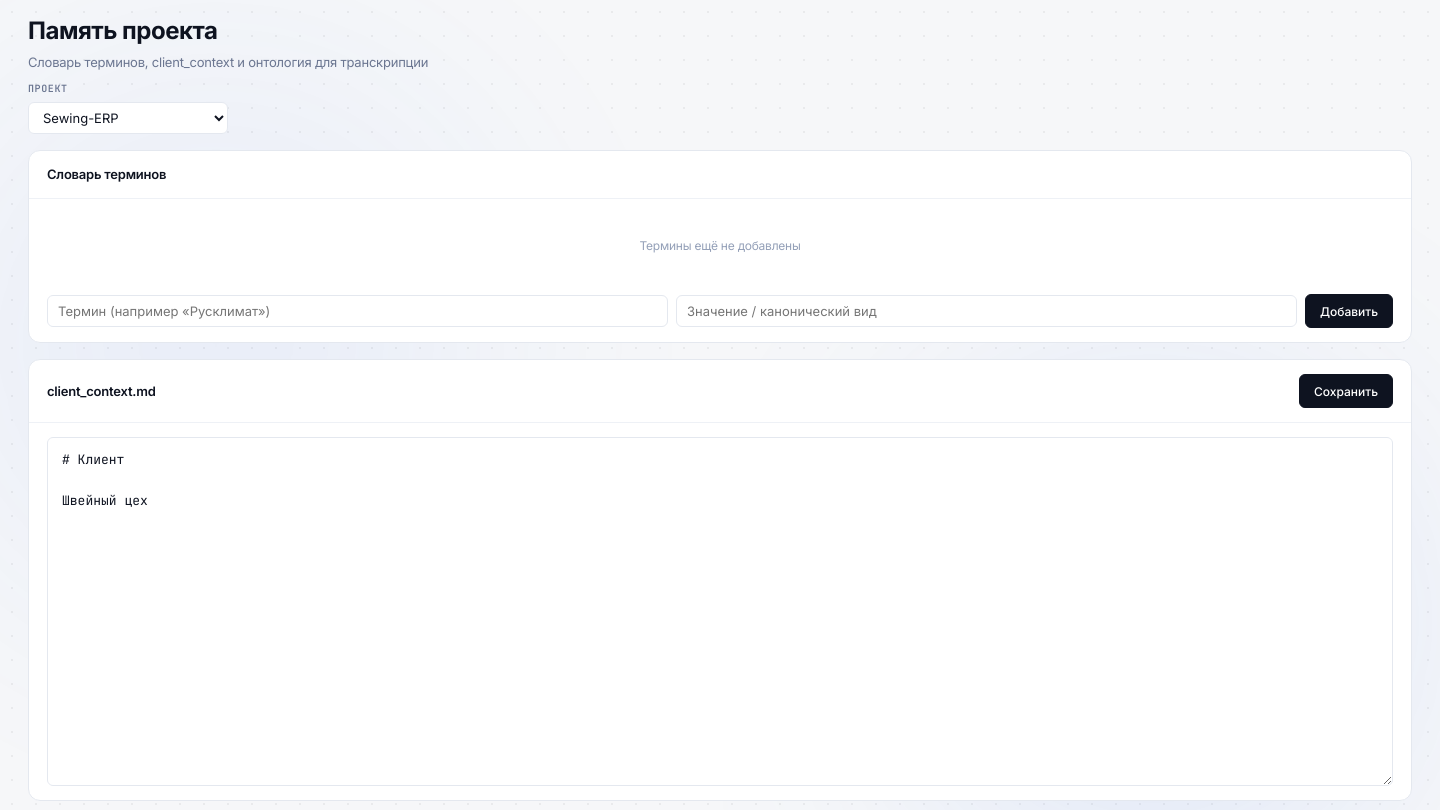
ProjectMemoryView — dictionary › shows the 409 backend detail inline (not a crash) when saving is rejected for a v2-ontology project
Expected: the text "Термины ещё не добавлены" is shown, [639,238,801,253]
Type "Тест" into the field named "Новый термин" at (358, 311), box [47,295,668,327]
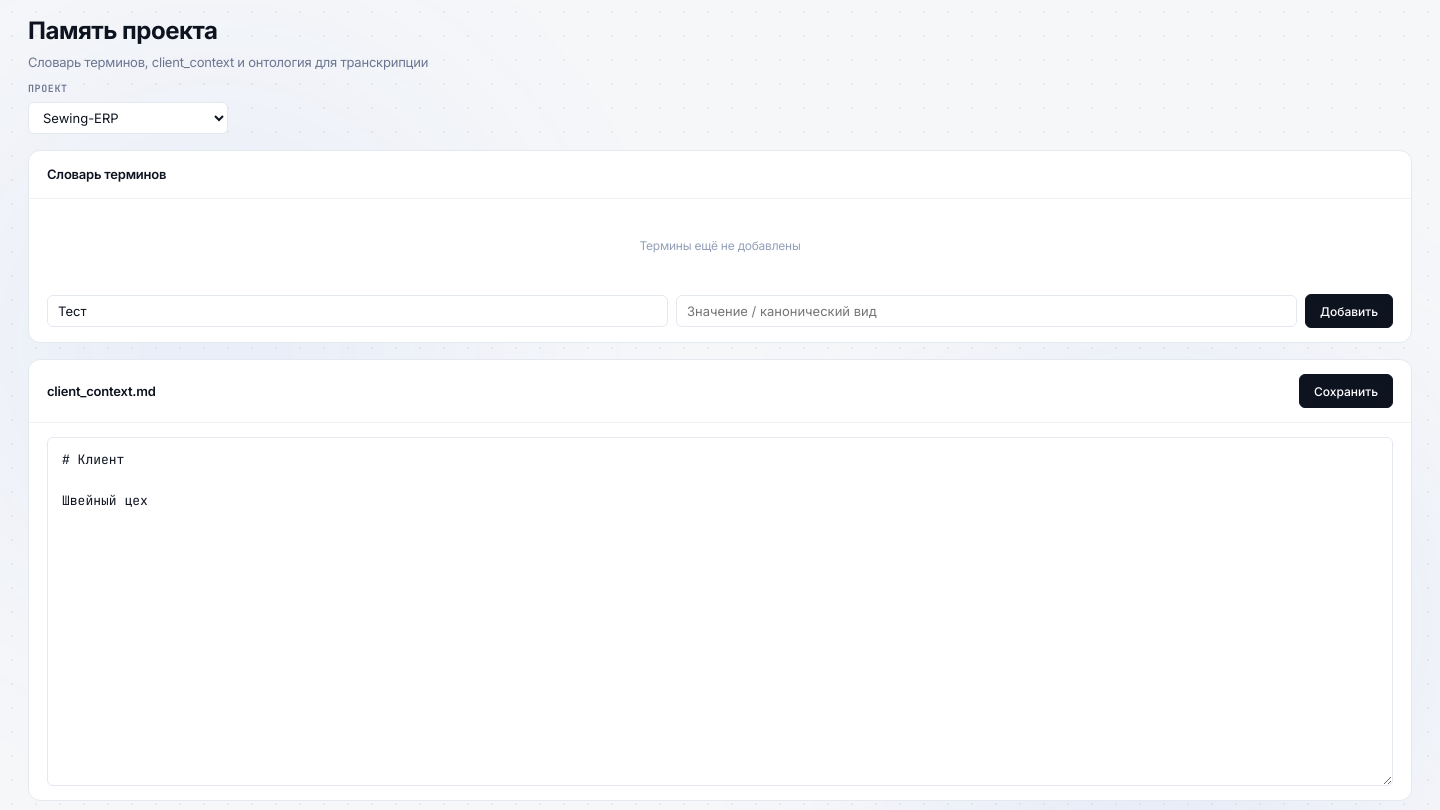
Type "тест" into the field named "Значение нового термина" at (986, 311), box [676,295,1297,327]
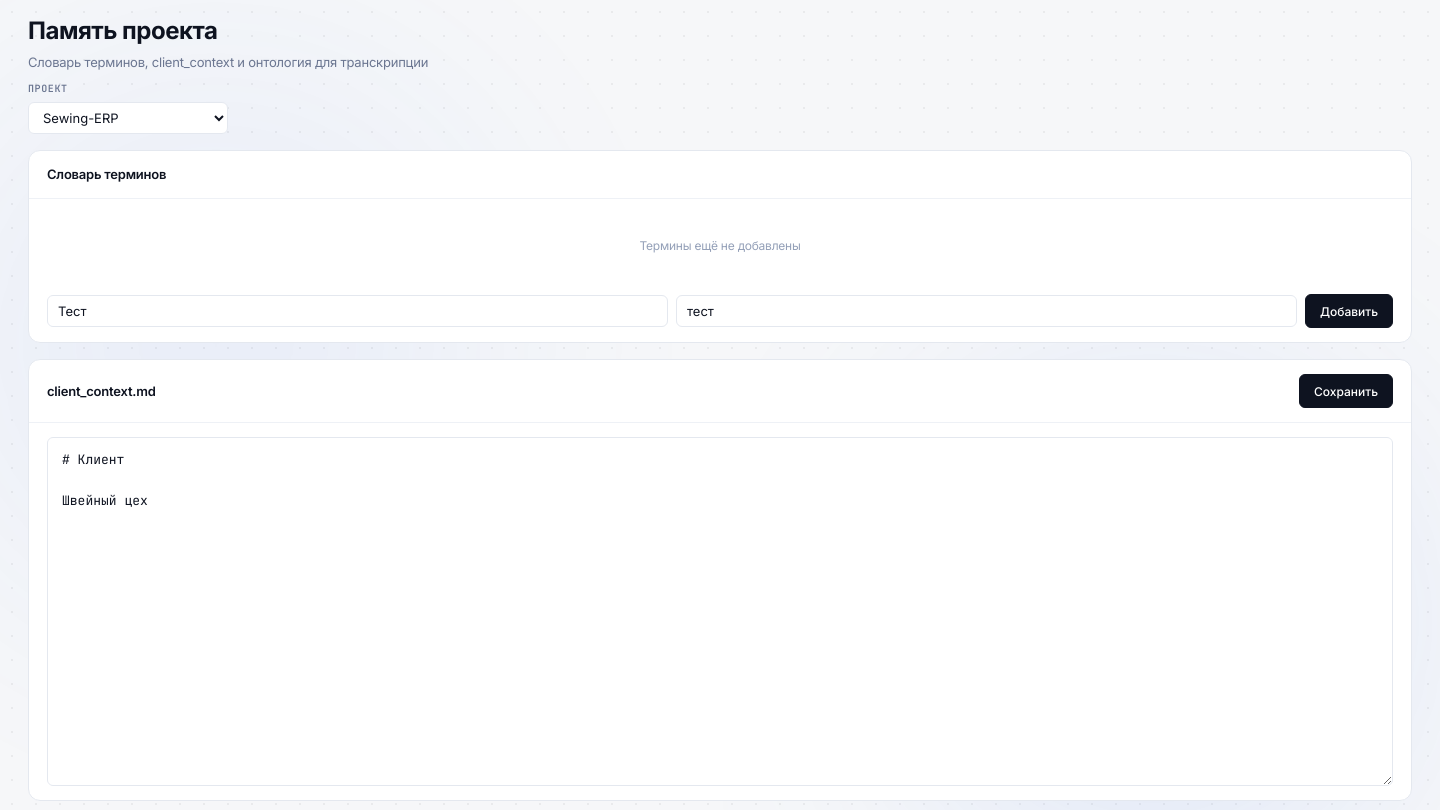
Click the button "Добавить" at (1349, 311), box [1305,294,1393,328]
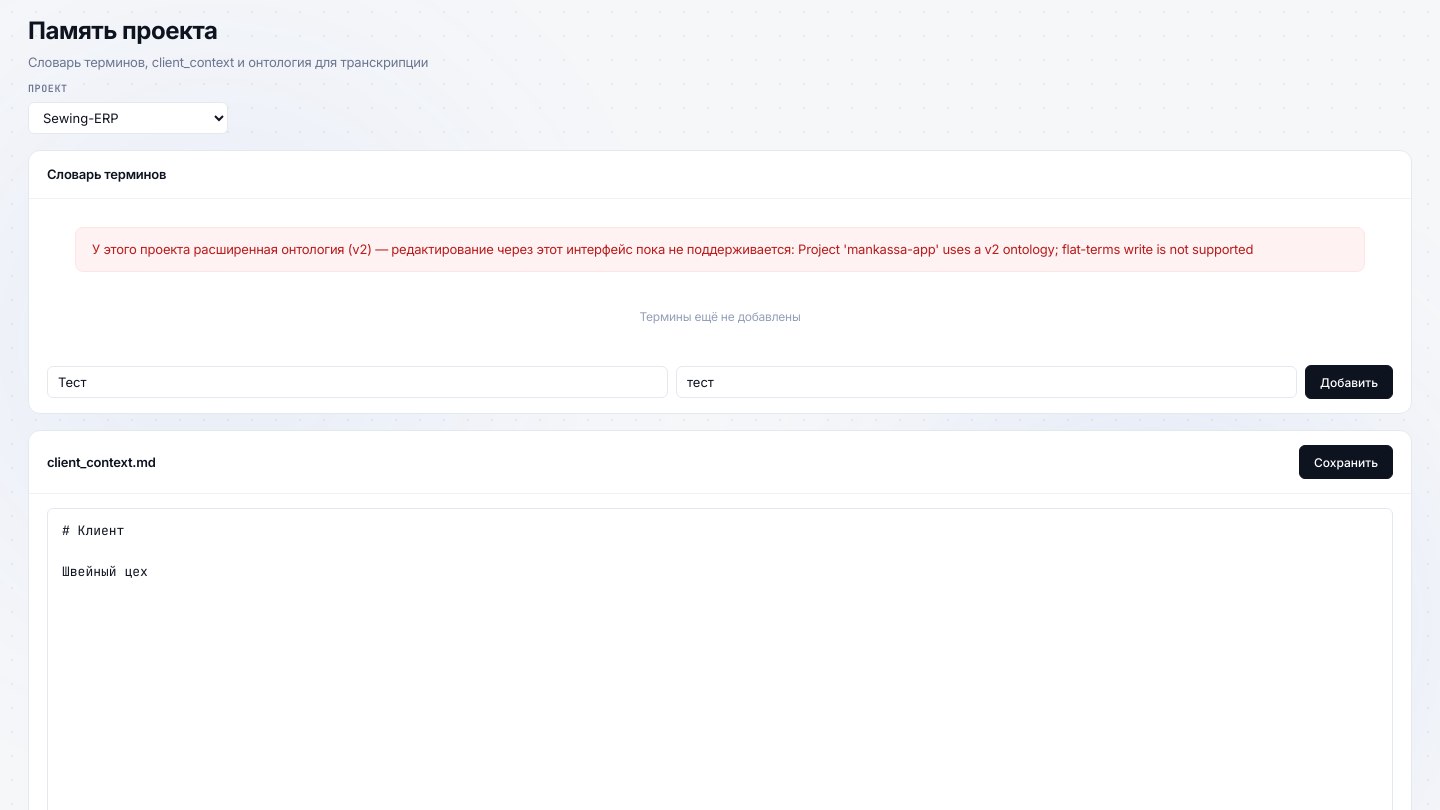
Expected: the text "client_context.md" is shown, [47,453,156,472]
Now the text "flat-terms write is not supported" is shown, box [92,241,1253,257]
